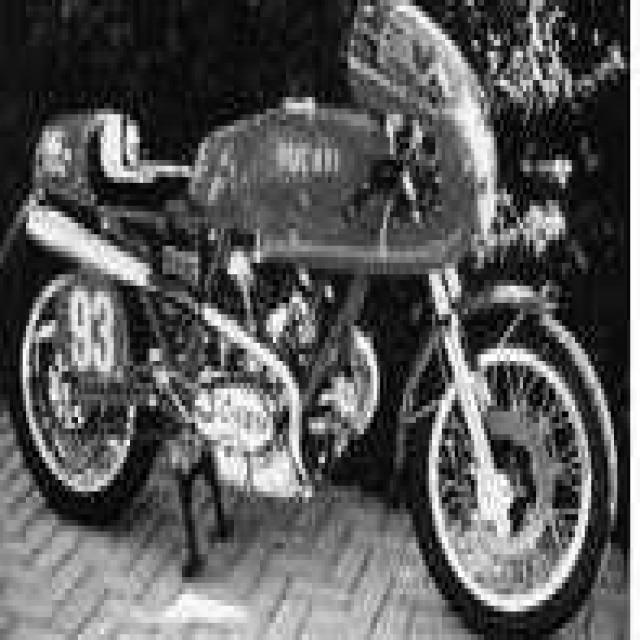Motorcycle: (0, 2, 618, 634)
